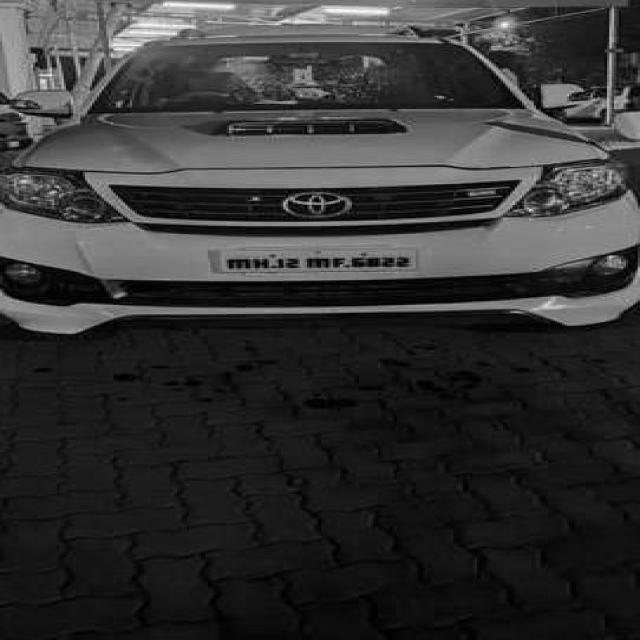car: (0, 30, 640, 342)
license-plate: (208, 247, 425, 280)
